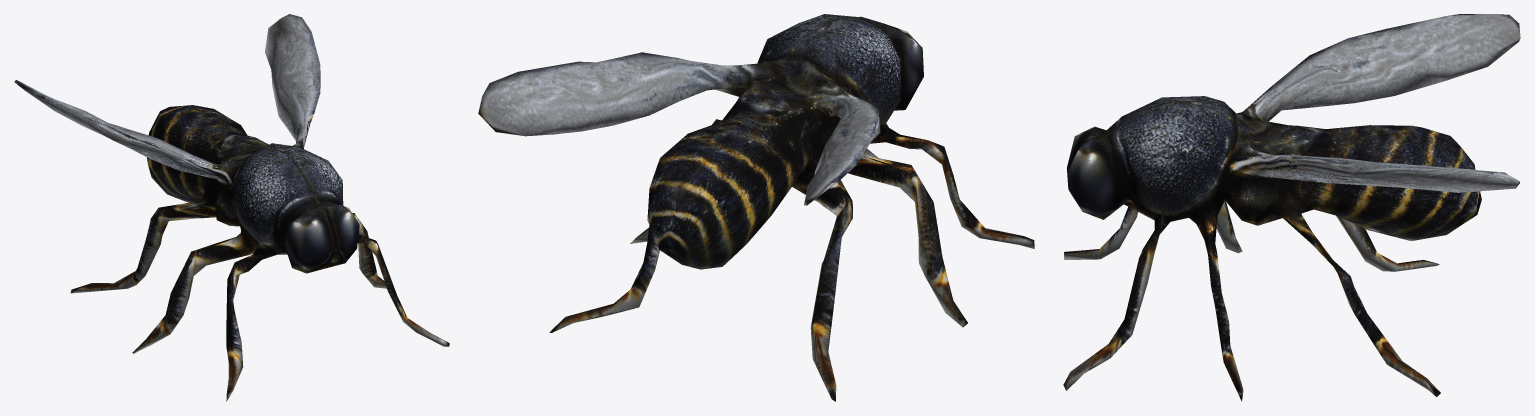
Rendered from fly.fbx.
The picture shows the model from 3 angles, left to right: view 1: azimuth 30°, elevation 25°; view 2: azimuth 150°, elevation 25°; view 3: azimuth 270°, elevation 25°; orthographic projection. The views are drawn at different scales.
Parts seen in each view (by area): view 1: Fly_Low_Poly; view 2: Fly_Low_Poly; view 3: Fly_Low_Poly.
Boxes of the visible parts, left/top/right/bottom form: Fly_Low_Poly: left=14, top=14, right=449, bottom=401; Fly_Low_Poly: left=478, top=14, right=1034, bottom=401; Fly_Low_Poly: left=1063, top=14, right=1520, bottom=401.
Size of the model in its own units: 0.5754 by 0.3993 by 0.6843.
